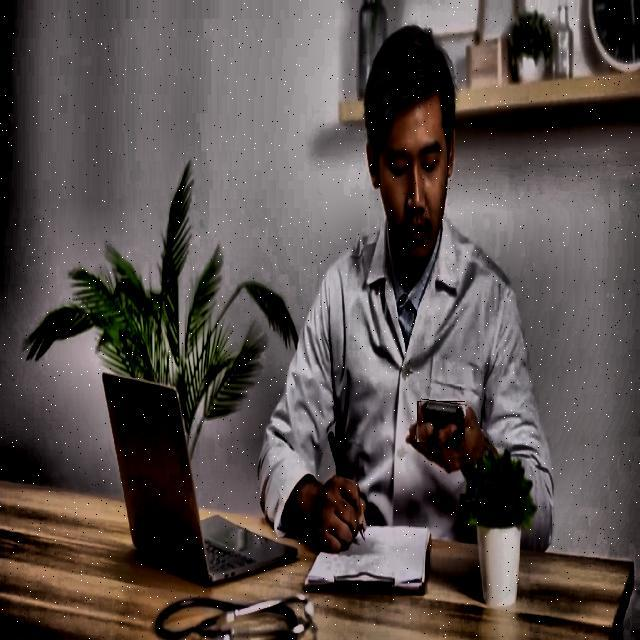Phone: (416, 399, 467, 444)
